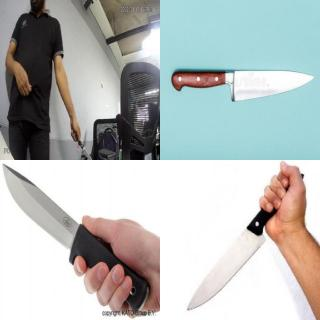knife: (0, 162, 150, 319), (183, 180, 289, 310), (170, 62, 318, 118), (78, 142, 92, 160)
